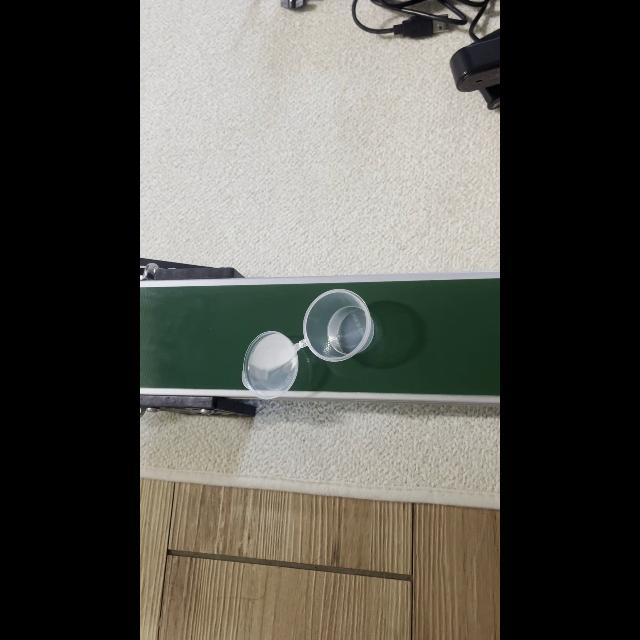clean: (300, 298, 372, 357), (238, 334, 298, 390)
